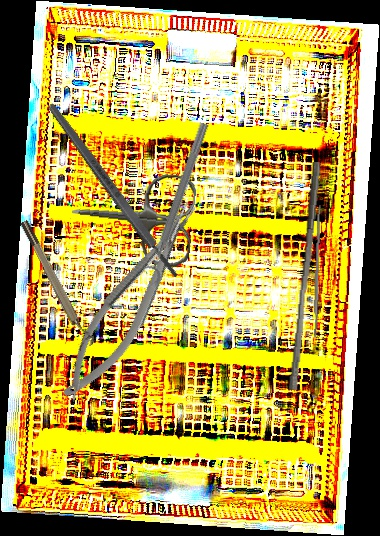Fixation Ring: (130, 117, 214, 290), (18, 215, 97, 352)
Iris Scissors: (67, 164, 198, 269)
Needle Holder: (45, 194, 218, 411)
Pusher: (287, 161, 322, 391)
Scalpel Handle: (45, 100, 181, 281), (312, 204, 322, 339)
